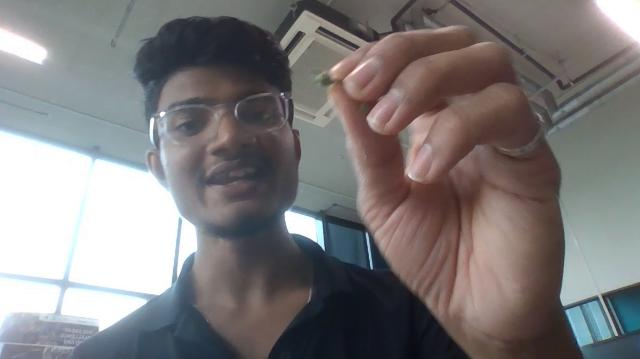Fruit Bud: (318, 71, 333, 87)
